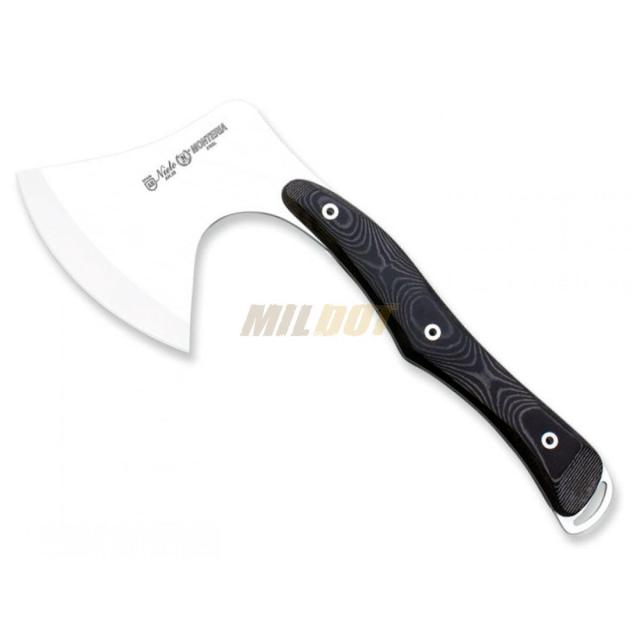Kapak: (37, 116, 608, 544)
